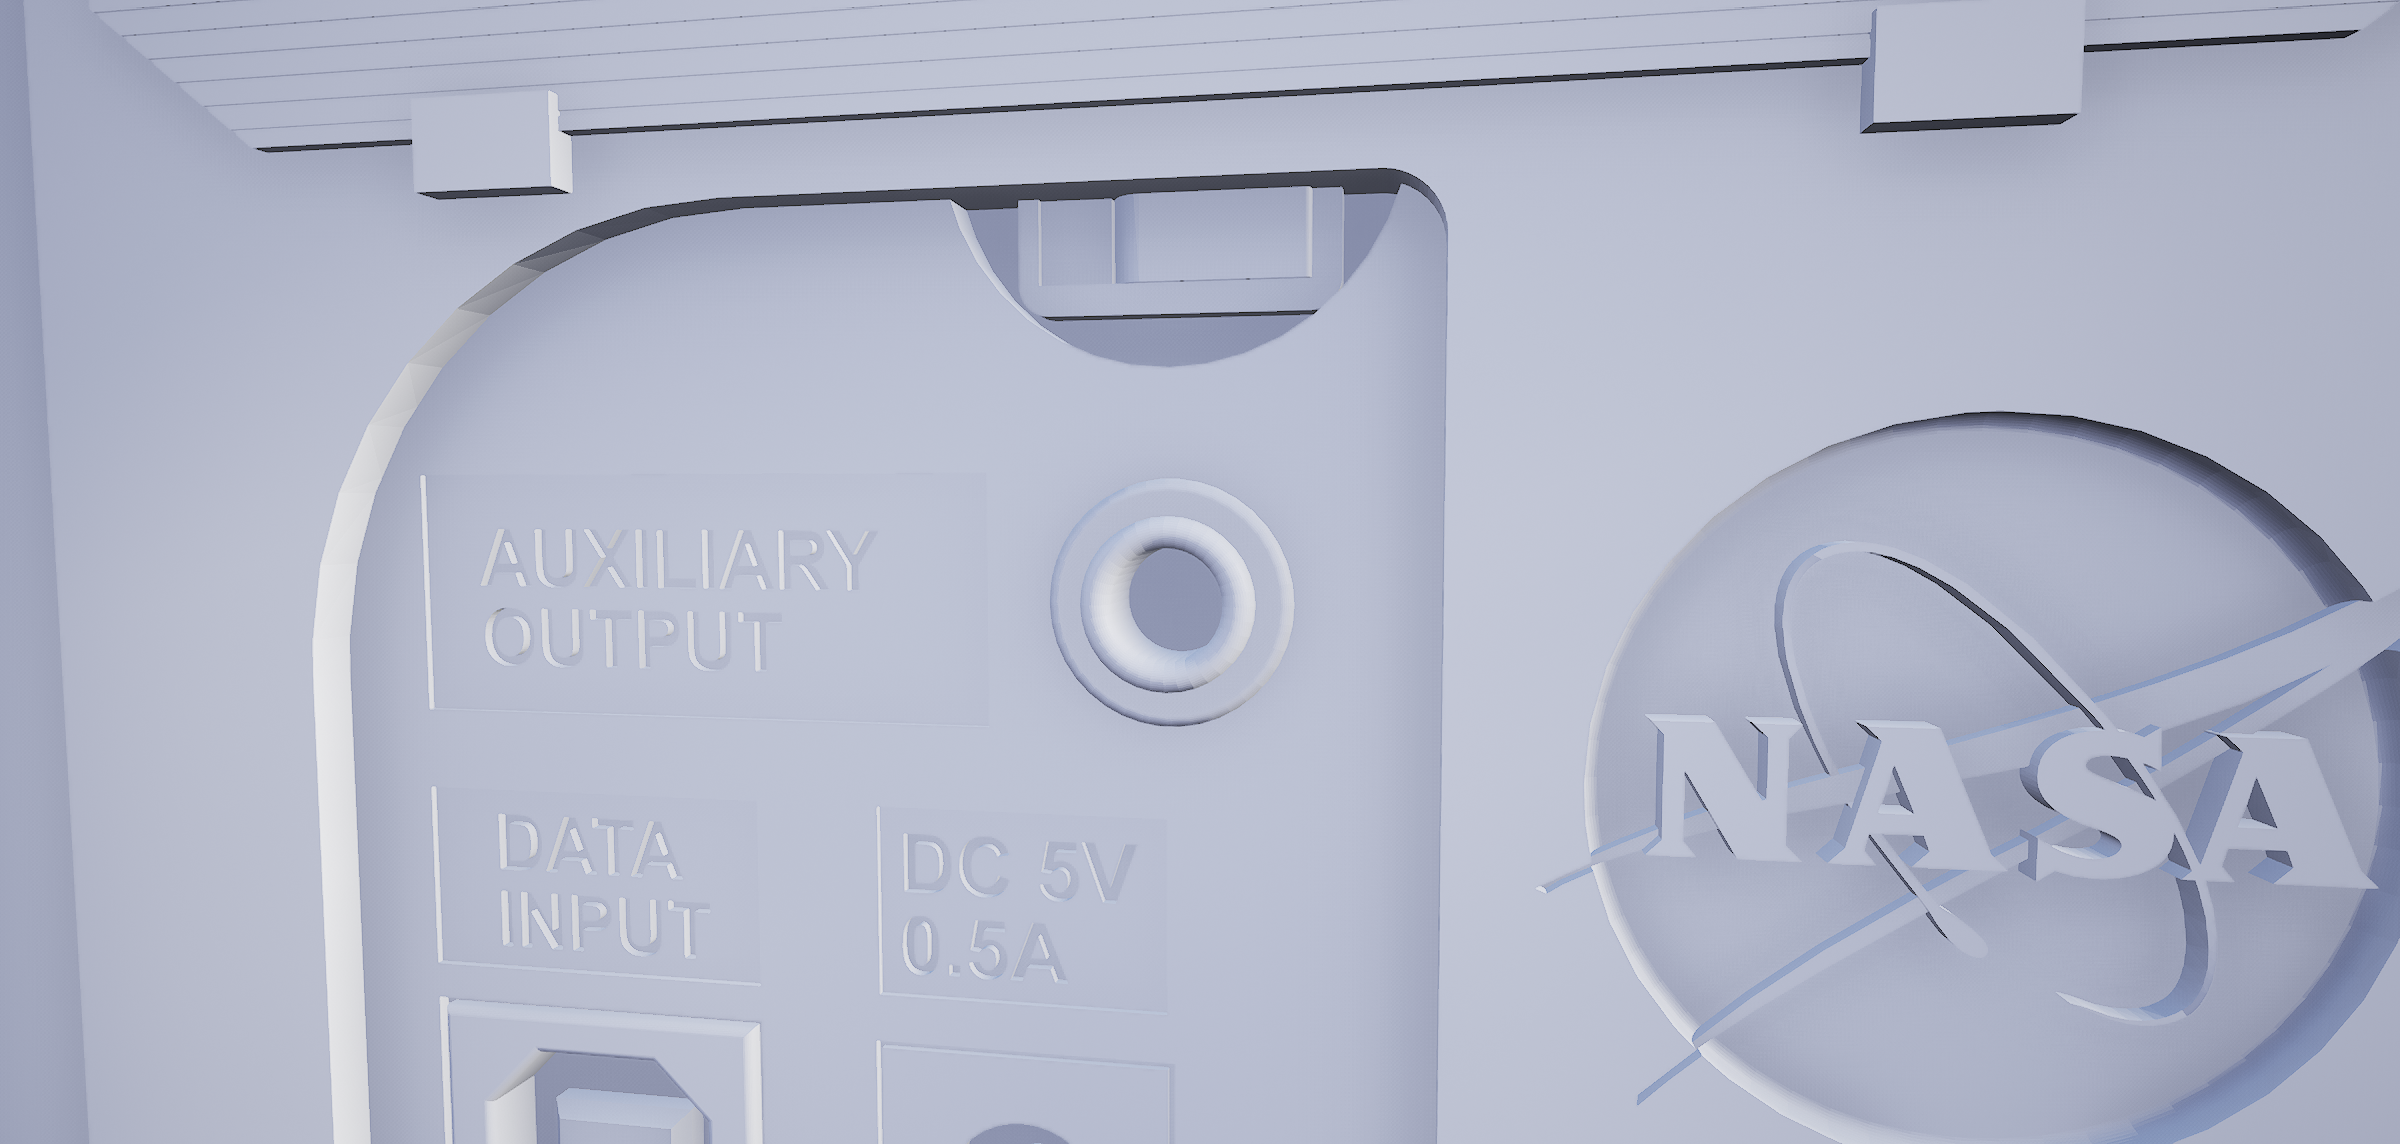aux: (1048, 459, 1312, 757)
dc: (937, 1100, 1091, 1144)
usb: (474, 1038, 716, 1144)
